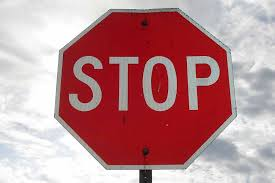Stop: (50, 7, 236, 157)
